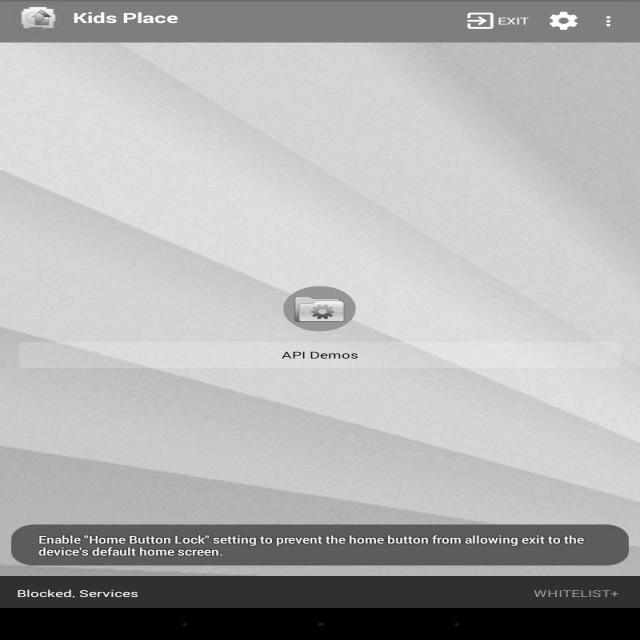ImageButton: (462, 7, 530, 32), (542, 7, 582, 33), (595, 10, 620, 34)
ImageView: (281, 287, 358, 330), (18, 5, 58, 30)
TextView: (35, 534, 591, 548), (67, 8, 185, 29), (15, 586, 146, 600), (529, 585, 623, 603), (278, 346, 366, 364)
